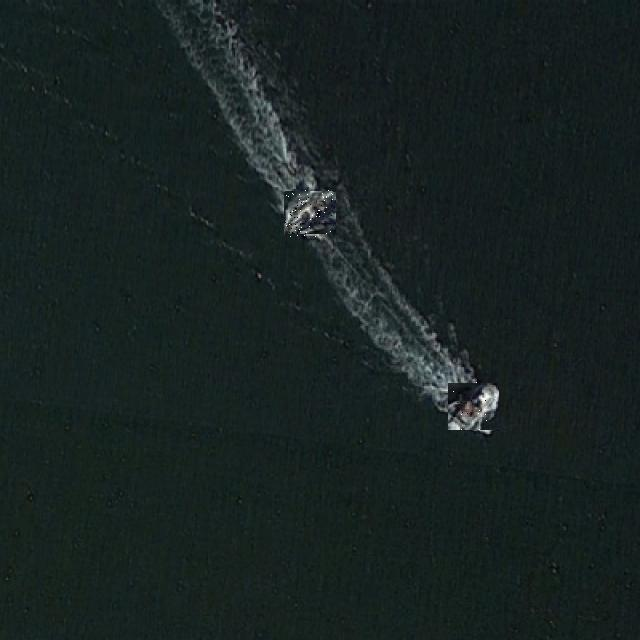boat: (449, 382, 498, 431), (286, 190, 334, 238)
